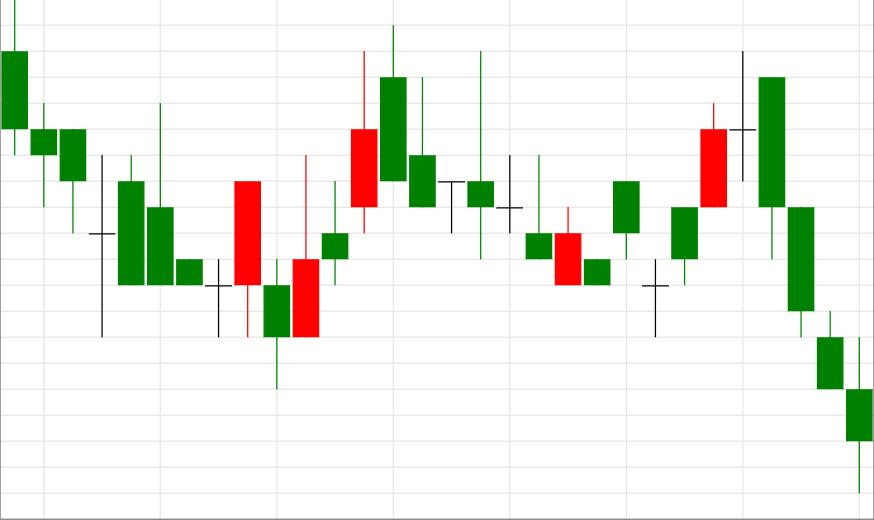three_black_crows_fall: (642, 49, 843, 389)
